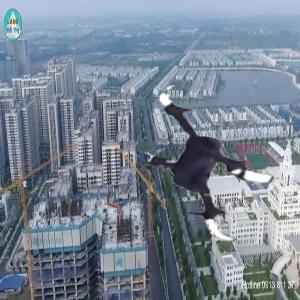drone: (128, 78, 299, 249)
